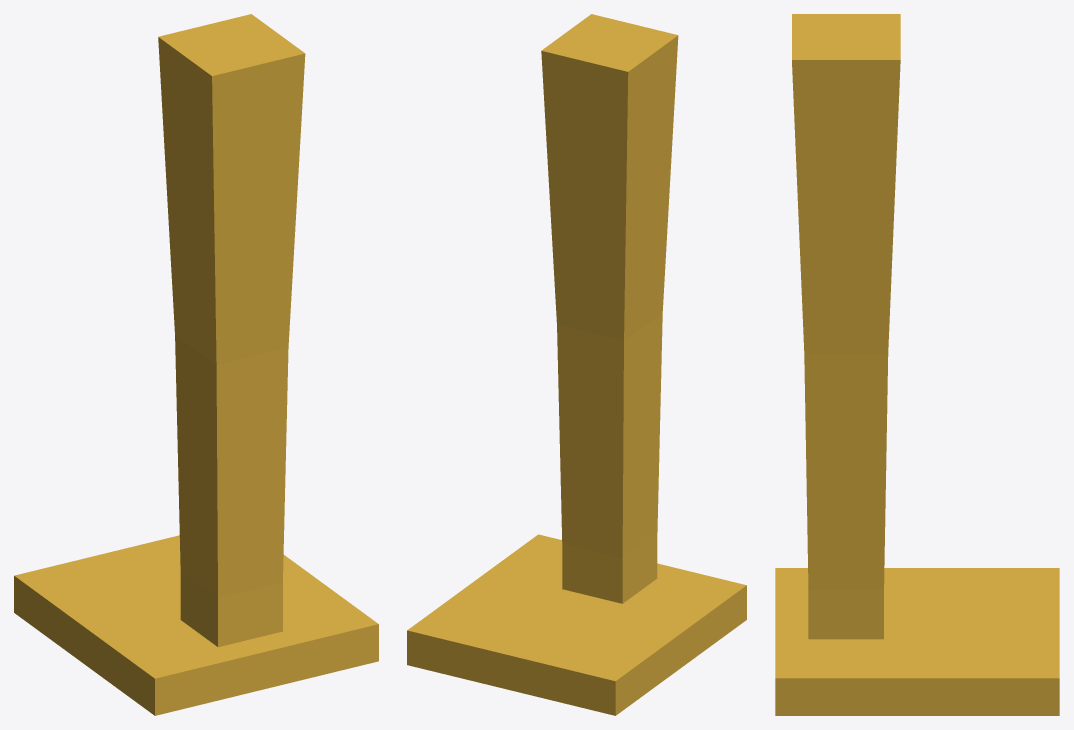
Rendered from animal_chicken_leg.obj.
3 views of the same model, side by side, from view 1: azimuth 30°, elevation 25°; view 2: azimuth 150°, elevation 25°; view 3: azimuth 270°, elevation 25° (orthographic). The views are drawn at different scales.
Visible parts, largest first — view 1: animal_chicken_leg; view 2: animal_chicken_leg; view 3: animal_chicken_leg.
Boxes of the visible parts, x1,y1,x2,y2 form: animal_chicken_leg: (14, 14, 378, 715); animal_chicken_leg: (407, 14, 746, 715); animal_chicken_leg: (775, 14, 1059, 715).
Size of the model in its own units: 0.0566 by 0.1493 by 0.0617.
